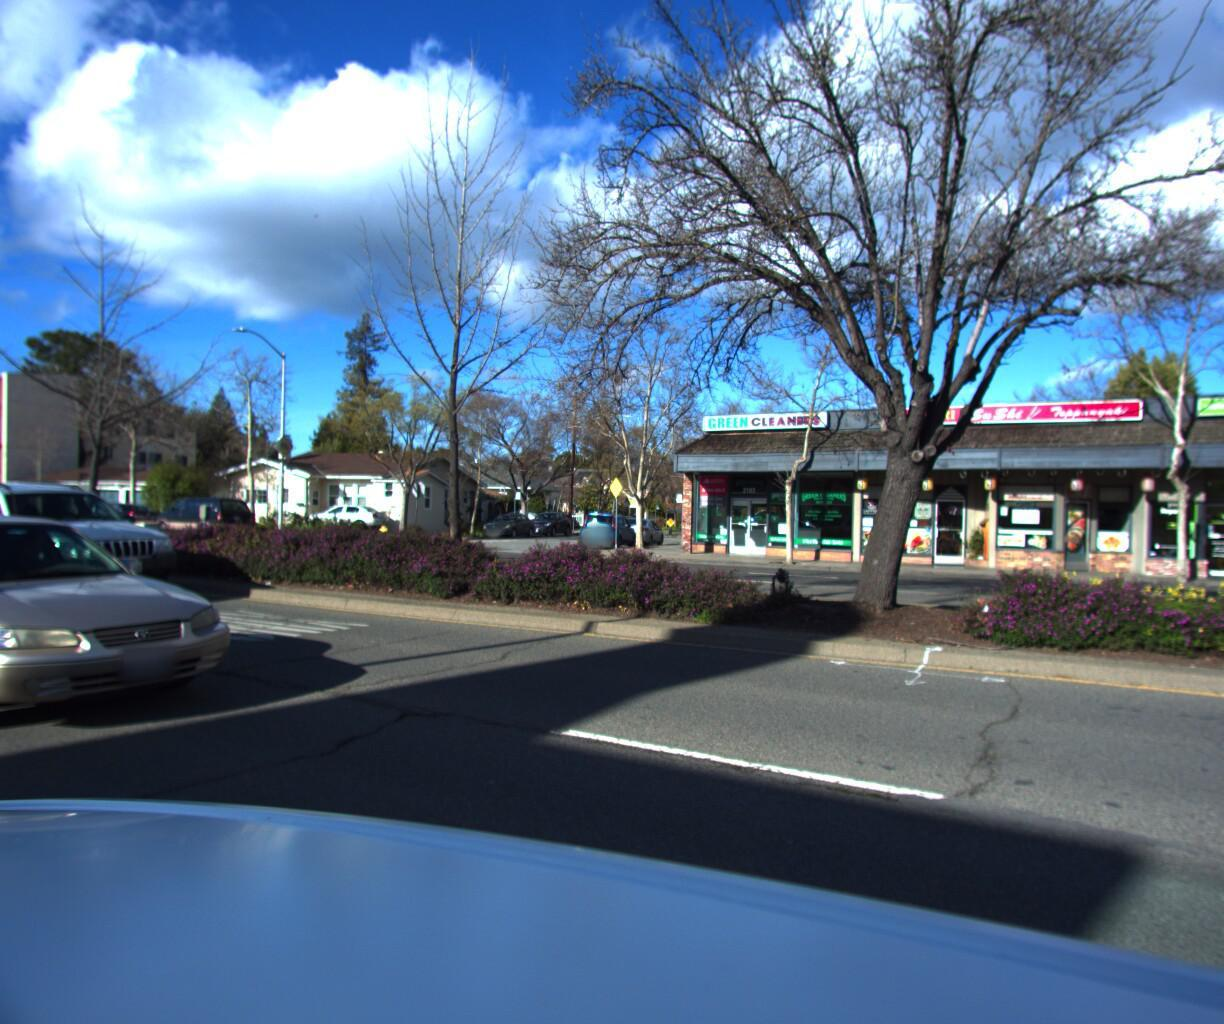car: (151, 498, 256, 541), (73, 504, 171, 537), (301, 503, 396, 535), (574, 513, 641, 551), (609, 518, 667, 549), (480, 515, 541, 540), (525, 515, 576, 538)
